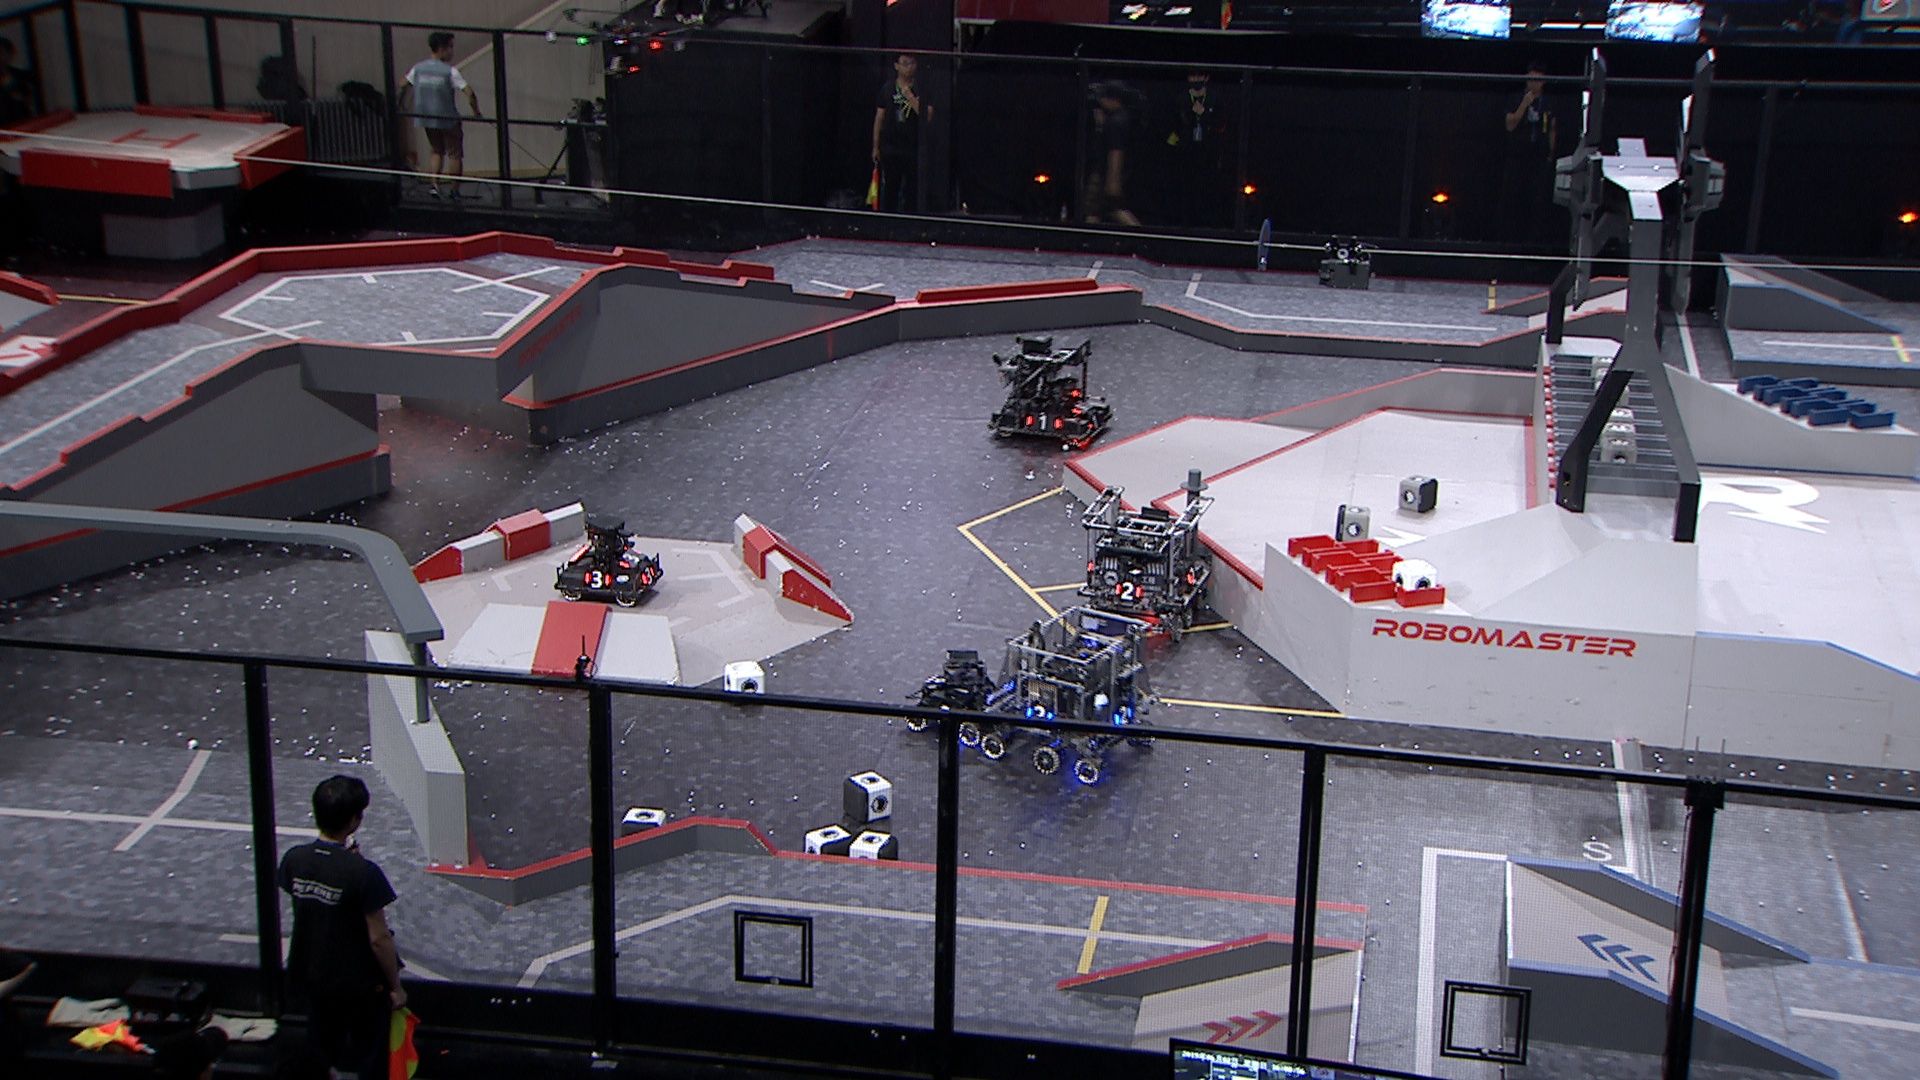armor: (1025, 414, 1063, 433), (580, 568, 613, 589), (1110, 703, 1134, 727), (1112, 582, 1141, 600), (638, 562, 657, 588), (1025, 702, 1055, 717), (617, 547, 641, 567), (1069, 400, 1092, 417), (1087, 413, 1102, 433), (1185, 564, 1200, 585)
car: (981, 607, 1153, 785), (1073, 484, 1211, 641), (988, 338, 1114, 452), (550, 514, 662, 611), (901, 647, 1005, 746)
